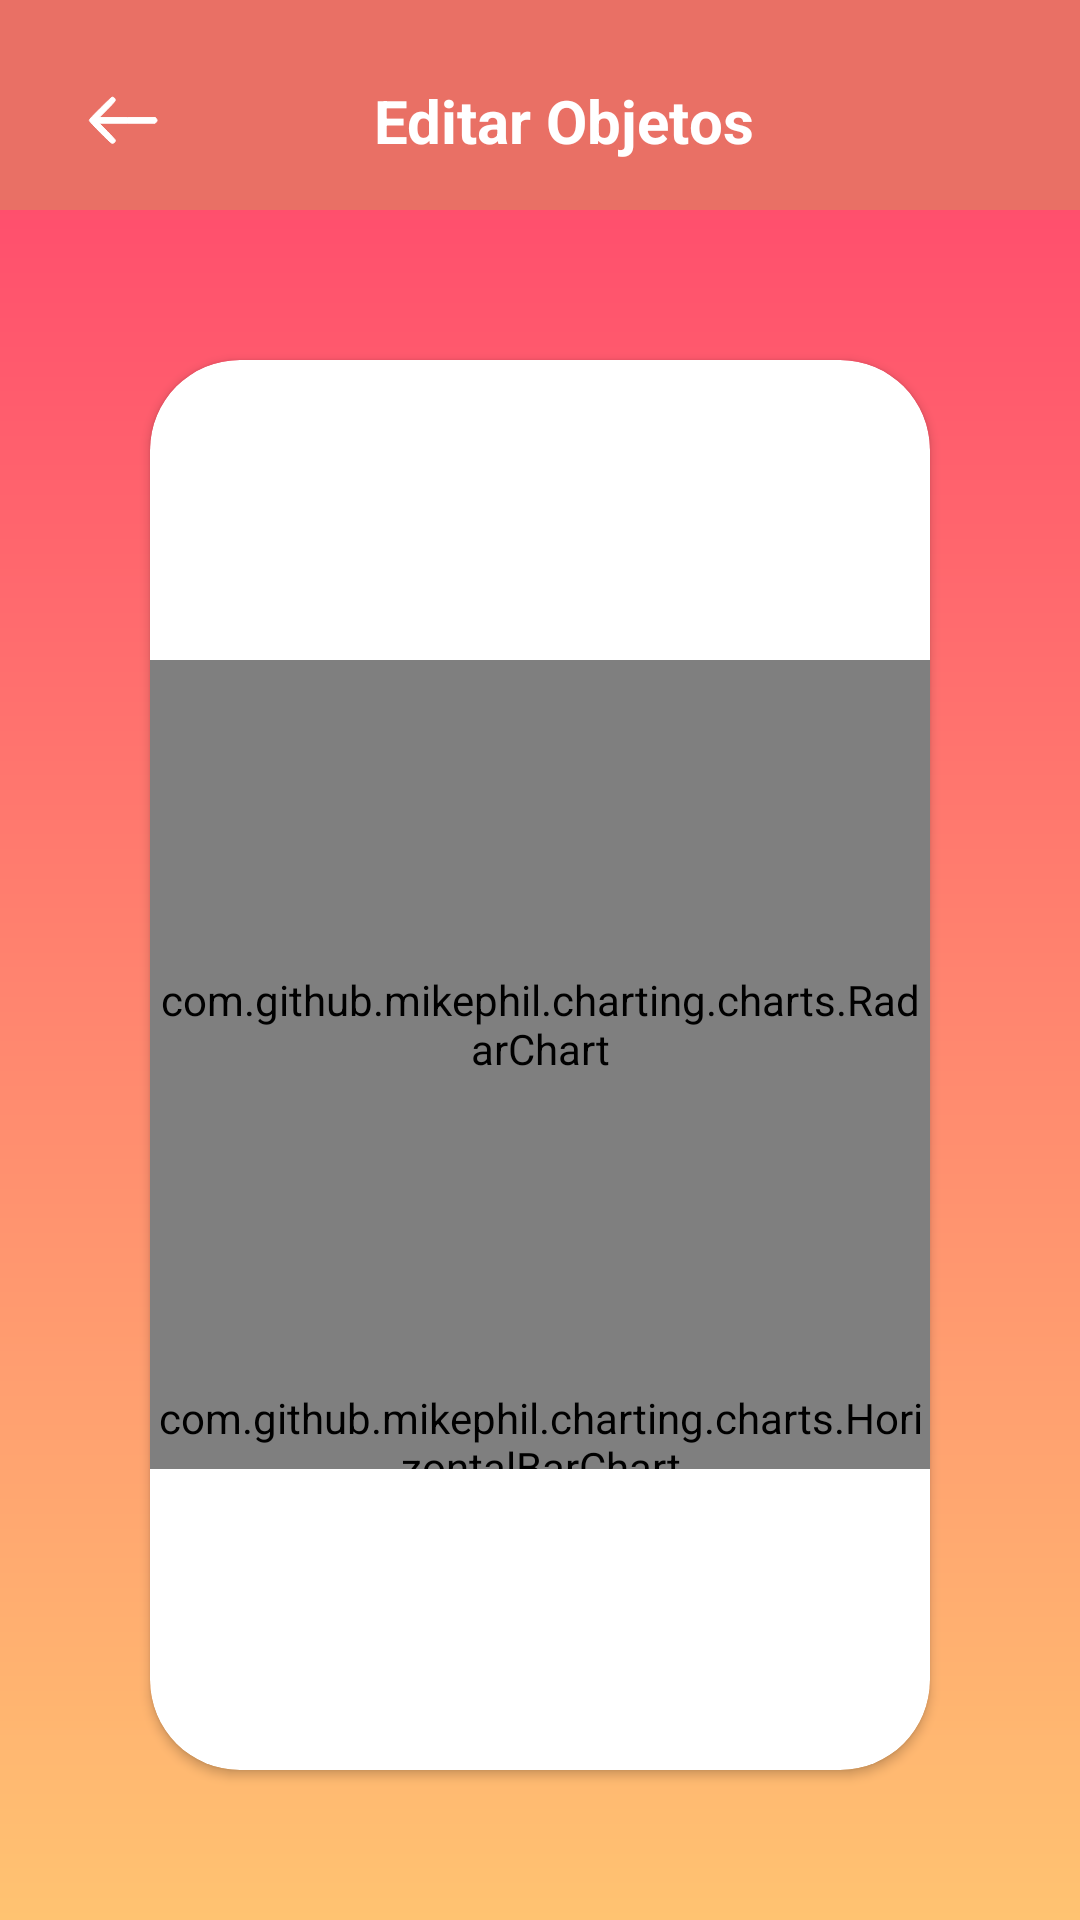

Locate icon controls on the screen. Image size 1080×1920, boxes as {"left": x1, "top": y1, "right": x2, "bottom": y2}.
Tornar enrere: {"left": 89, "top": 96, "right": 158, "bottom": 144}
